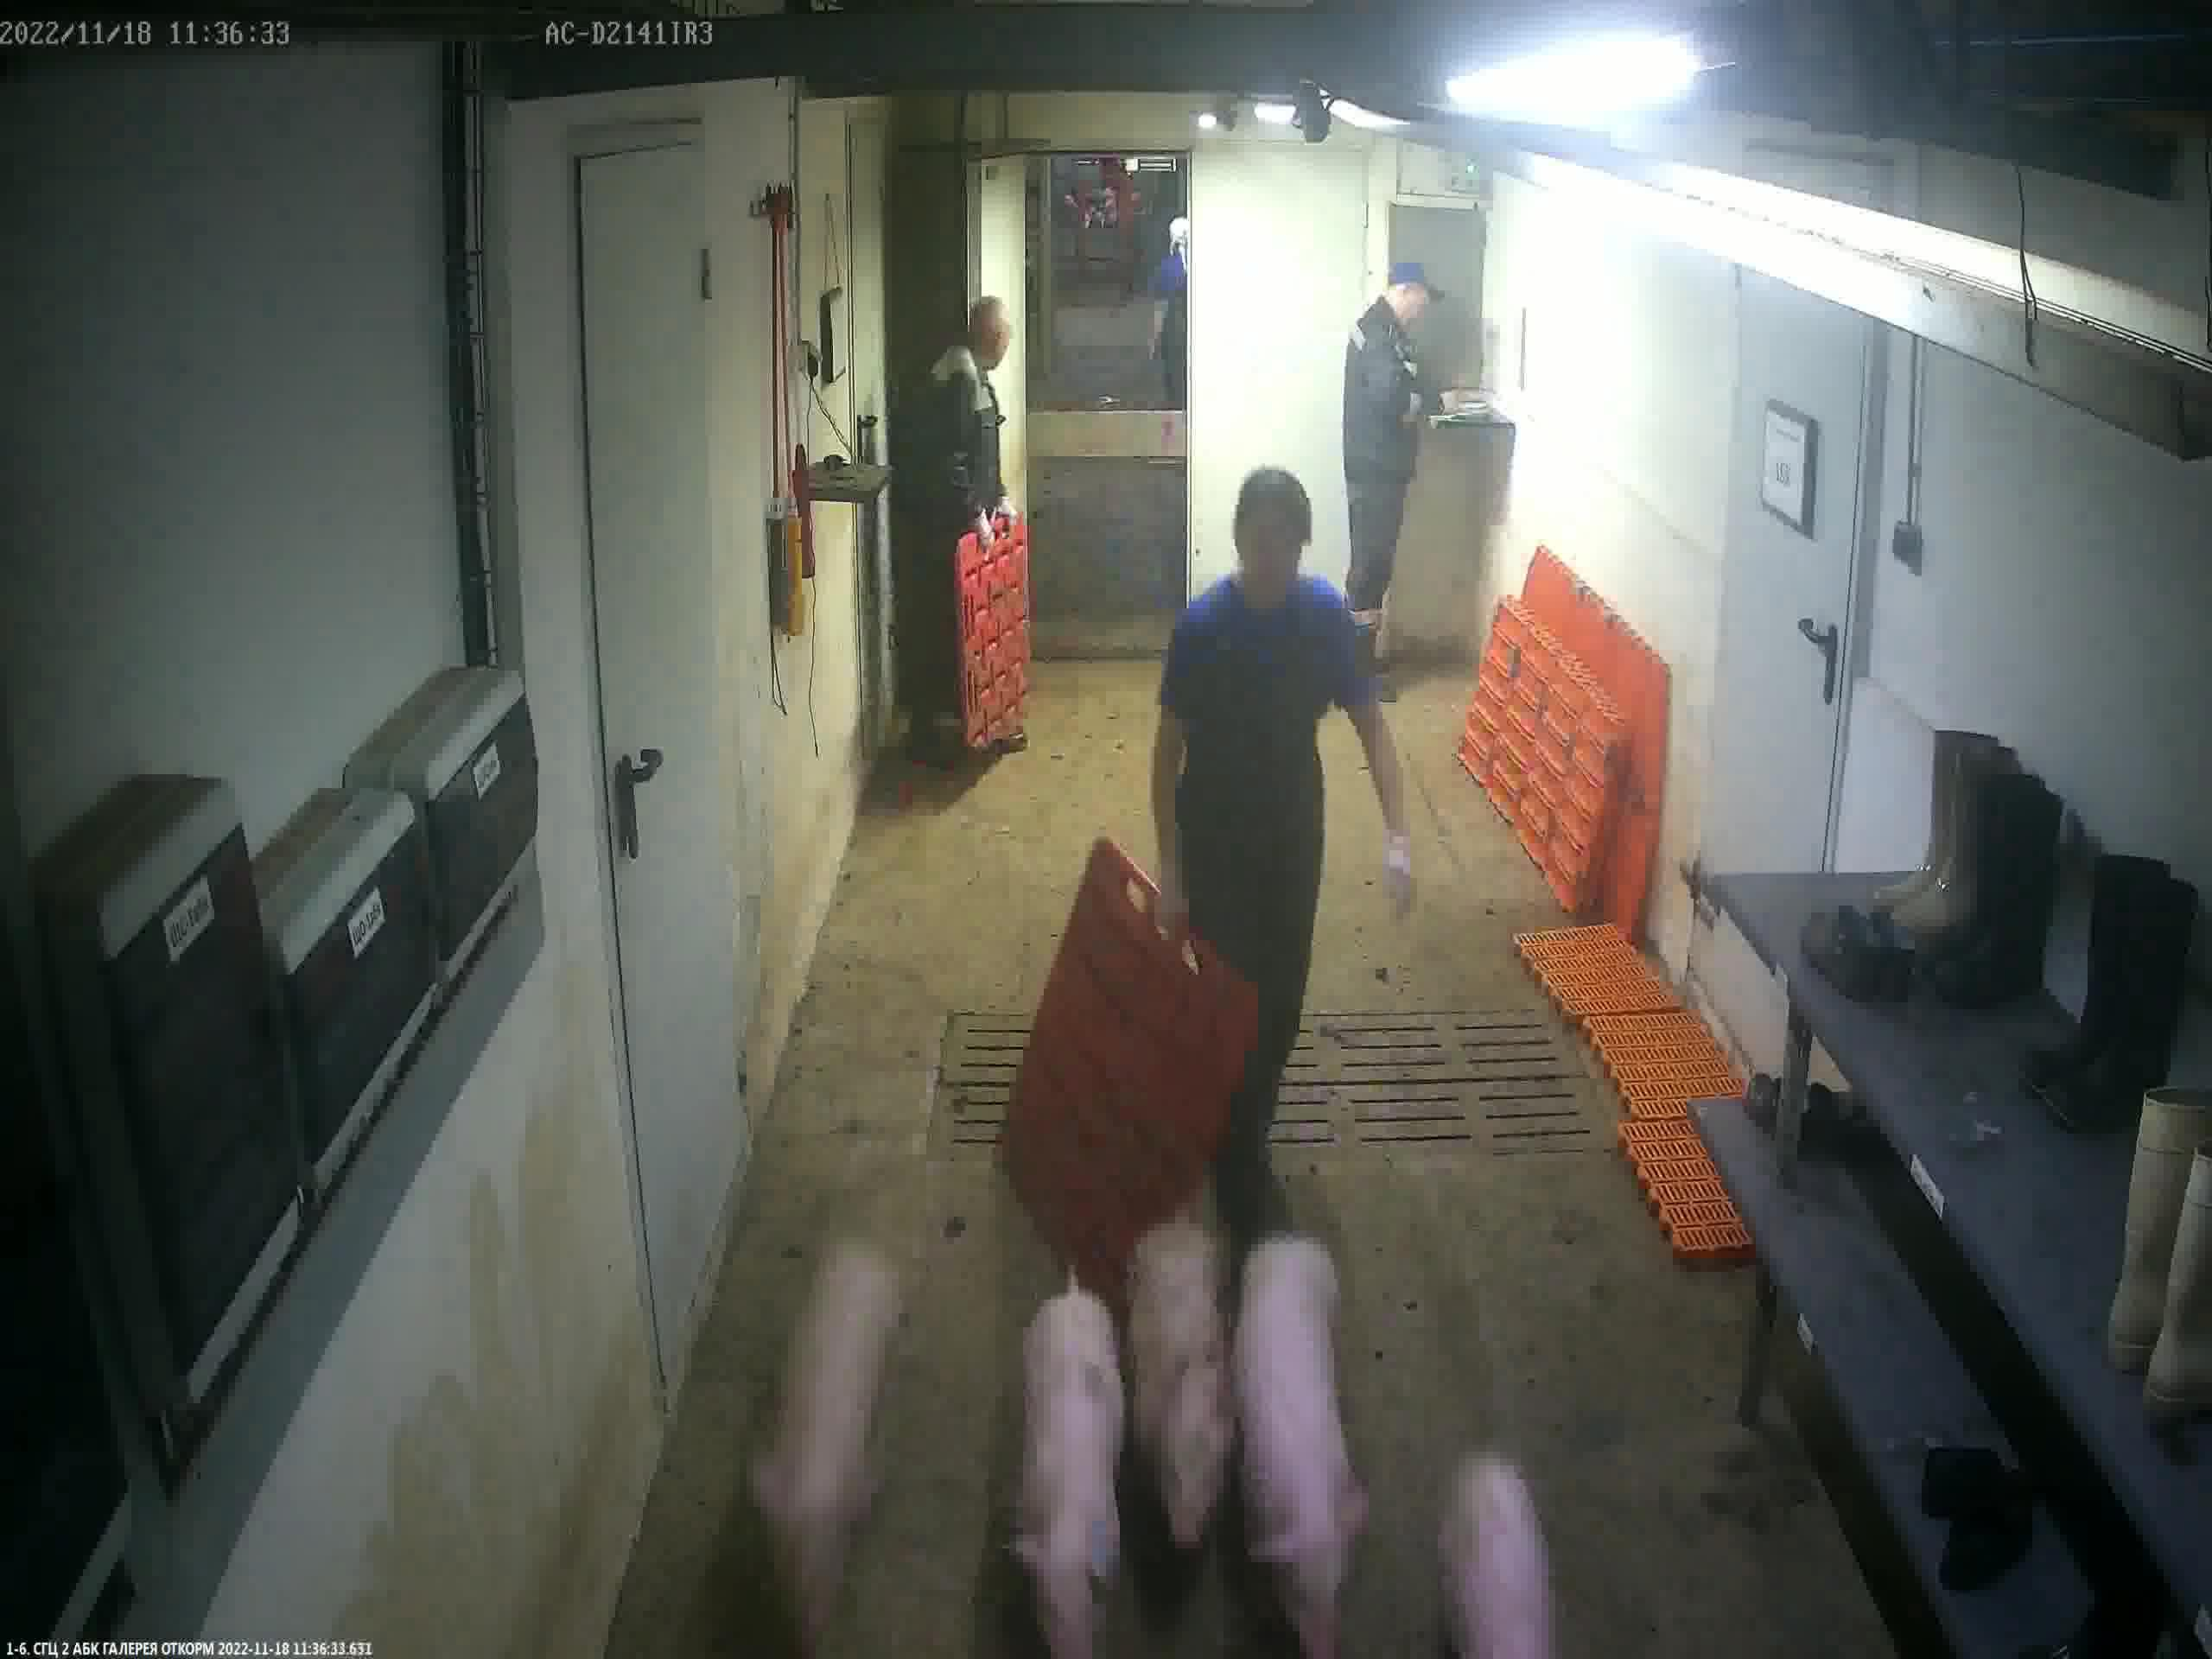Pigs: (756, 1253, 909, 1659), (1237, 1241, 1362, 1659), (1021, 1284, 1132, 1659), (1132, 1216, 1238, 1565), (1442, 1448, 1559, 1659)
